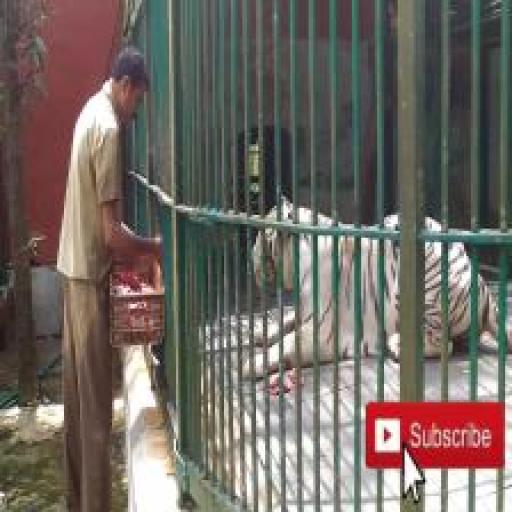Tiger: (242, 188, 512, 385)
